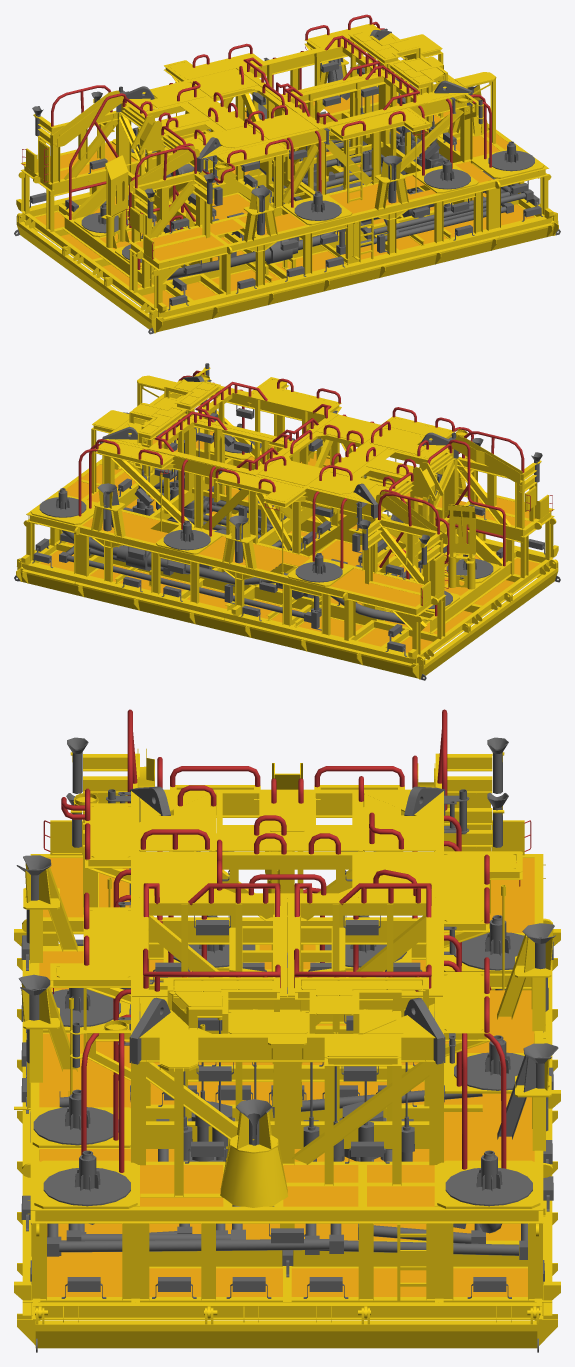
File: MANIFOLD_01_LOD2.FBX
3 views of the same model, one above another, from view 1: azimuth 30°, elevation 25°; view 2: azimuth 150°, elevation 25°; view 3: azimuth 270°, elevation 25° (orthographic). The views are drawn at different scales.
Parts seen in each view (by area): view 1: MANIFOLD AMARELO CORPO LOD2, MANIFOLD METAL BASE LOD2, MANIFOLD GRADE LOD2, MANIFOLD VERMELHO ALCA LOD2; view 2: MANIFOLD AMARELO CORPO LOD2, MANIFOLD METAL BASE LOD2, MANIFOLD GRADE LOD2, MANIFOLD VERMELHO ALCA LOD2; view 3: MANIFOLD AMARELO CORPO LOD2, MANIFOLD METAL BASE LOD2, MANIFOLD GRADE LOD2, MANIFOLD VERMELHO ALCA LOD2.
Part boxes in pixels (x1,y1,x2,y2): MANIFOLD AMARELO CORPO LOD2: (16, 24, 558, 333); MANIFOLD METAL BASE LOD2: (14, 28, 560, 334); MANIFOLD GRADE LOD2: (35, 90, 534, 306); MANIFOLD VERMELHO ALCA LOD2: (22, 14, 491, 269); MANIFOLD AMARELO CORPO LOD2: (16, 367, 558, 679); MANIFOLD METAL BASE LOD2: (14, 363, 560, 680); MANIFOLD GRADE LOD2: (40, 431, 539, 653); MANIFOLD VERMELHO ALCA LOD2: (78, 370, 552, 616); MANIFOLD AMARELO CORPO LOD2: (14, 748, 560, 1348); MANIFOLD METAL BASE LOD2: (16, 737, 558, 1352); MANIFOLD GRADE LOD2: (39, 858, 534, 1296); MANIFOLD VERMELHO ALCA LOD2: (43, 709, 531, 1172).
Bounding box in the file's own units: 14.75 × 5.31 × 9.07.
